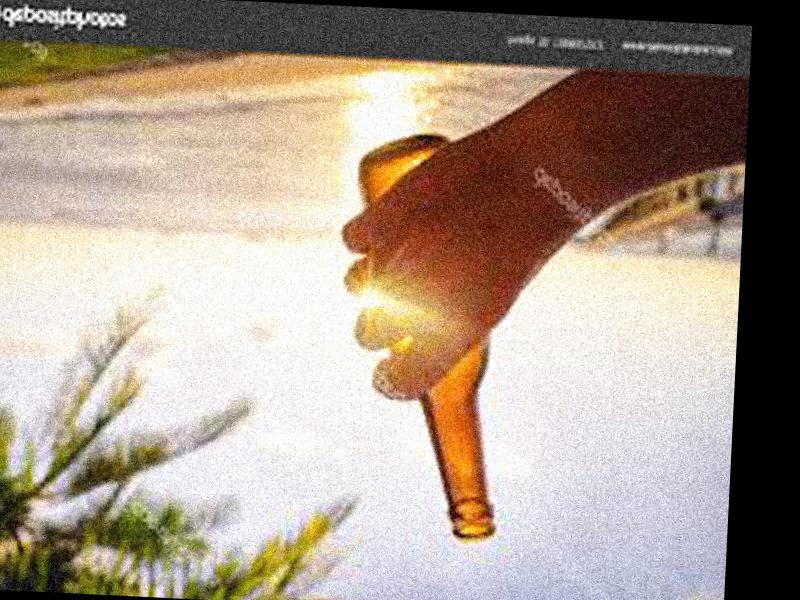Beer: (344, 128, 518, 541)
